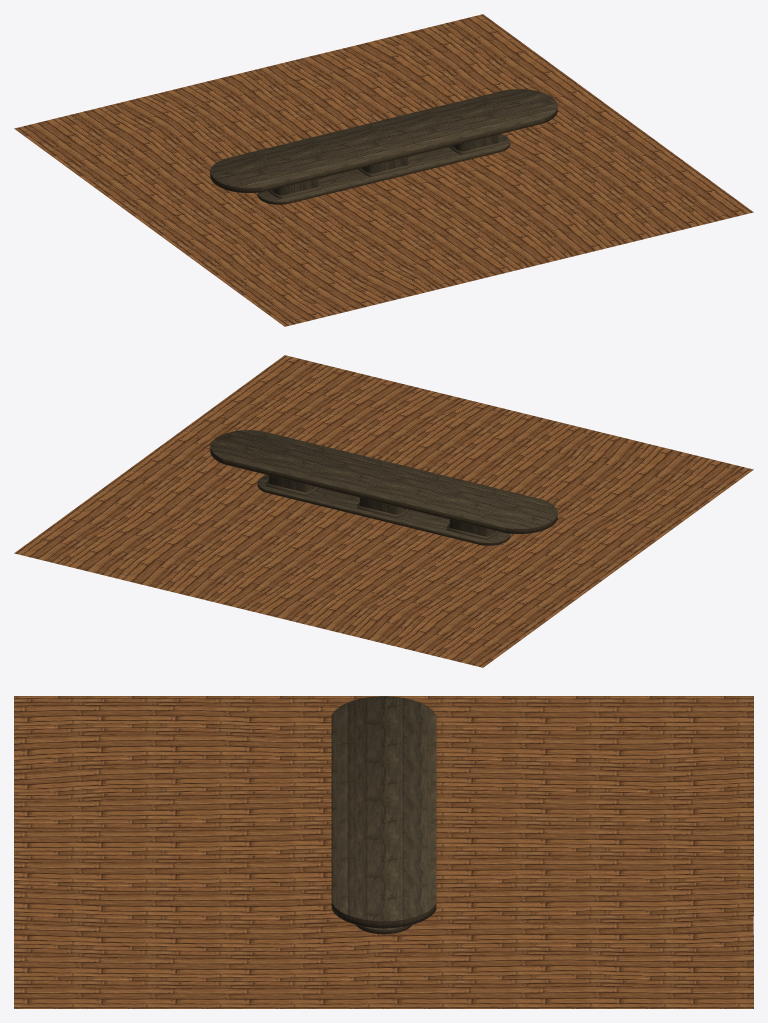
File: ground.glb
The picture shows the model from 3 angles, top to bottom: view 1: azimuth 30°, elevation 25°; view 2: azimuth 150°, elevation 25°; view 3: azimuth 270°, elevation 25°; orthographic projection. The views are drawn at different scales.
Parts seen in each view (by area): view 1: ground, table_top, table_leg; view 2: ground, table_top, table_leg; view 3: ground, table_top.
Boxes of the visible parts, left/top/right/bottom form: ground: left=14, top=14, right=753, bottom=326; table_top: left=210, top=89, right=557, bottom=192; table_leg: left=257, top=134, right=510, bottom=204; ground: left=14, top=355, right=753, bottom=667; table_top: left=210, top=430, right=557, bottom=533; table_leg: left=257, top=475, right=510, bottom=545; ground: left=14, top=696, right=753, bottom=1008; table_top: left=331, top=696, right=436, bottom=928.
Size of what is drawn, in the model's own units: 16 by 1.06 by 16.
Materials: 3 (3 with a texture image).
